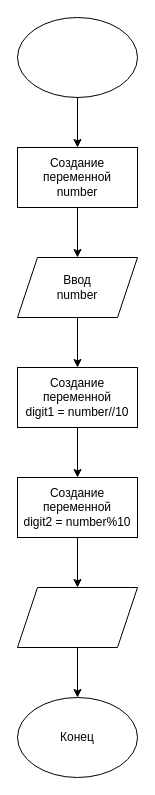
The diagram is 155 pixels wide and 795 high, and some of its shapes have lost their labels. The shapes that lost their labels are listed below. From the top down, each one's centre as x and y in pixels, then its label:
point (77, 57): Начало
point (77, 617): Вывод суммы и произведения digit1 и digit2
